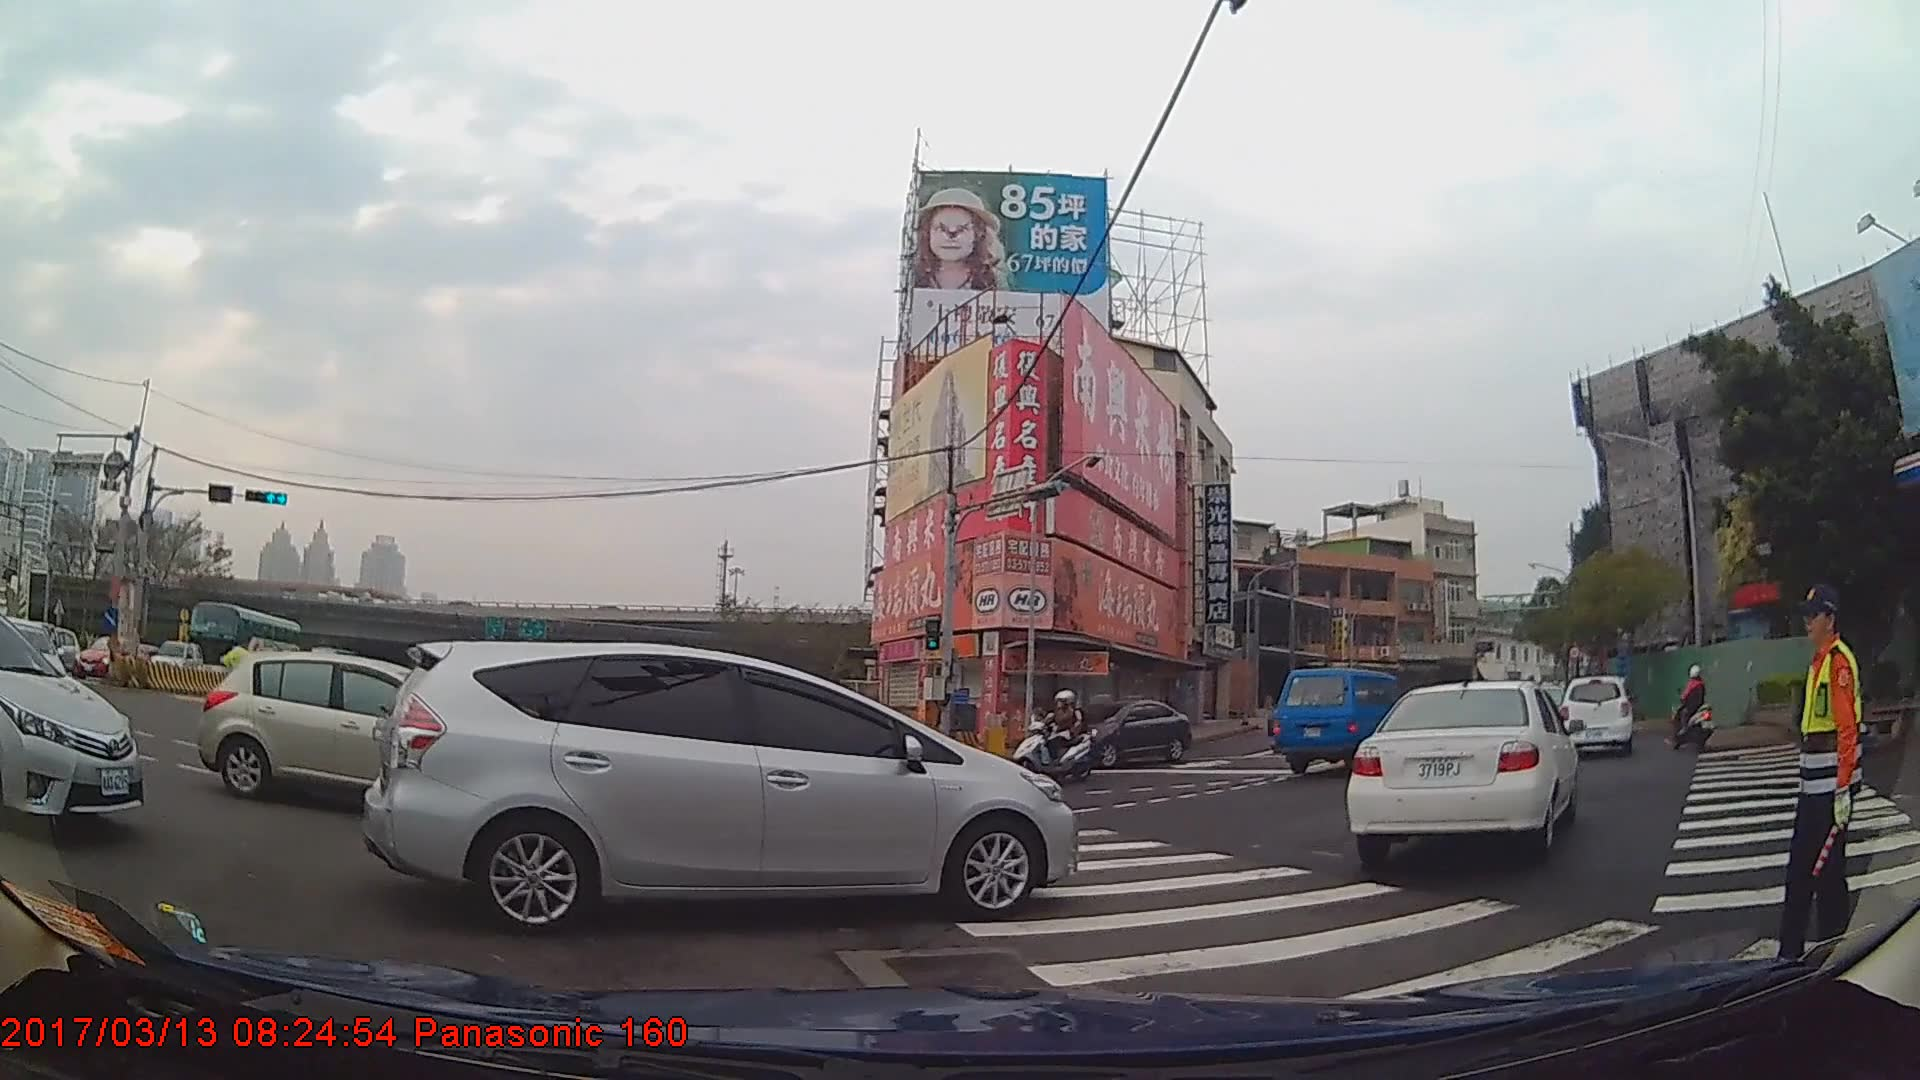pedestrian: (1777, 583, 1872, 978), (218, 633, 260, 731)
rider: (1013, 690, 1098, 778), (1672, 662, 1717, 750)
vehicle: (362, 635, 1081, 930), (200, 646, 489, 814), (1342, 677, 1579, 857), (0, 619, 145, 829), (1269, 665, 1409, 777), (186, 600, 303, 682), (1063, 694, 1187, 766), (1558, 673, 1631, 759), (71, 632, 150, 683), (148, 636, 201, 678)
